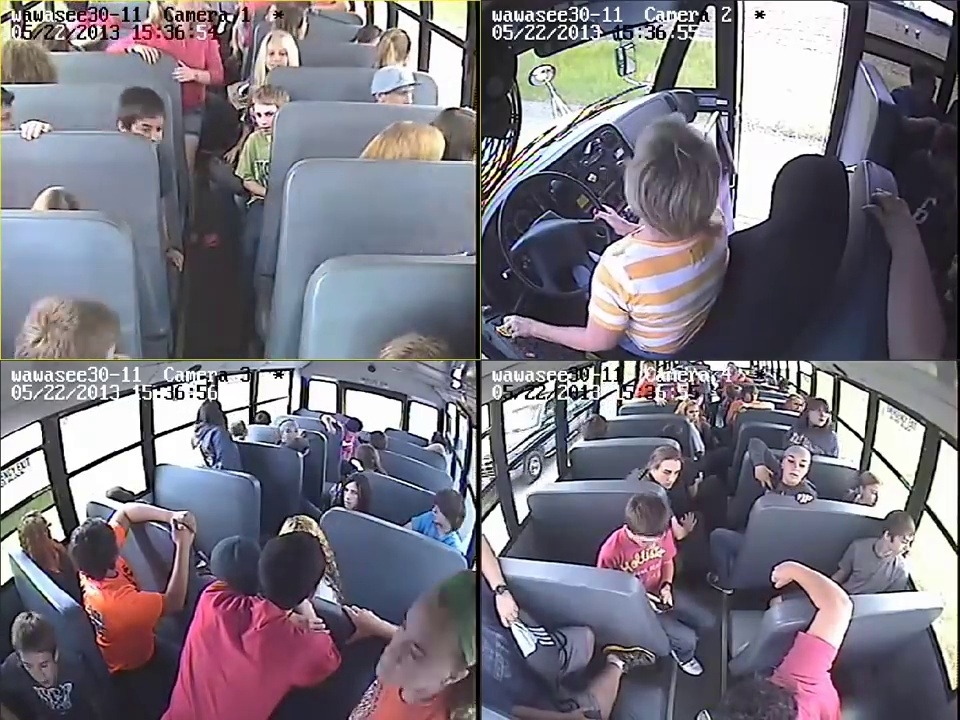face: (372, 612, 463, 695), (20, 650, 49, 689), (651, 456, 683, 488), (255, 96, 281, 133), (134, 112, 161, 143), (377, 83, 416, 104), (429, 500, 454, 527), (264, 46, 290, 69), (784, 453, 807, 479), (893, 528, 915, 555), (859, 481, 883, 505), (810, 402, 829, 431), (341, 483, 361, 510), (684, 398, 701, 423), (740, 389, 758, 402), (787, 398, 804, 409)
